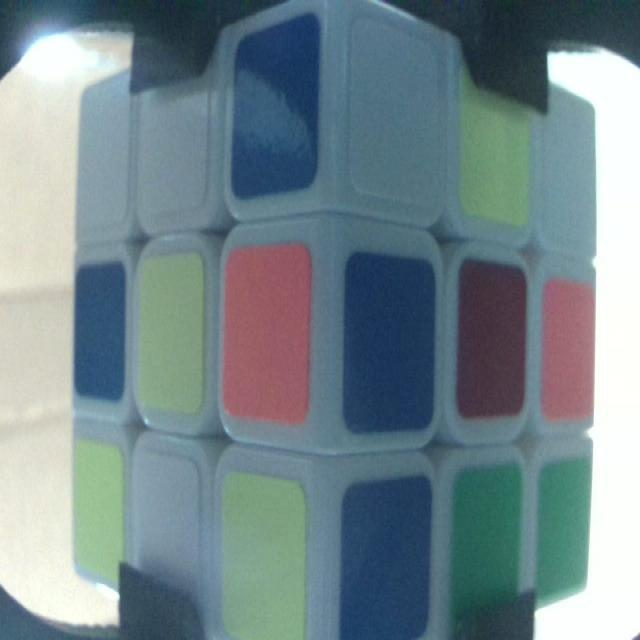b: (345, 249, 435, 429), (230, 15, 315, 192), (341, 482, 431, 639), (74, 266, 127, 403)
g: (450, 465, 520, 630), (535, 460, 590, 591)
o: (225, 247, 310, 418), (543, 279, 598, 416)
r: (460, 262, 525, 412)
w: (350, 14, 442, 206), (135, 454, 205, 624), (142, 74, 206, 212), (543, 92, 598, 243), (80, 95, 130, 222)
y: (222, 472, 309, 640), (458, 54, 530, 224), (138, 260, 202, 412), (74, 439, 125, 582)
